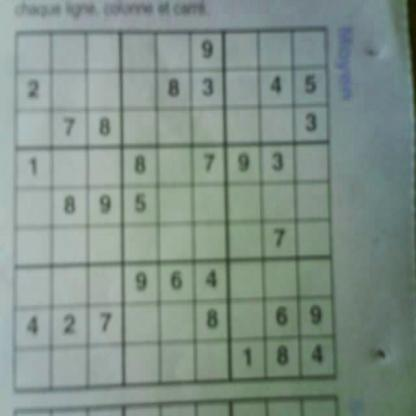sudoku: (8, 18, 342, 400)
